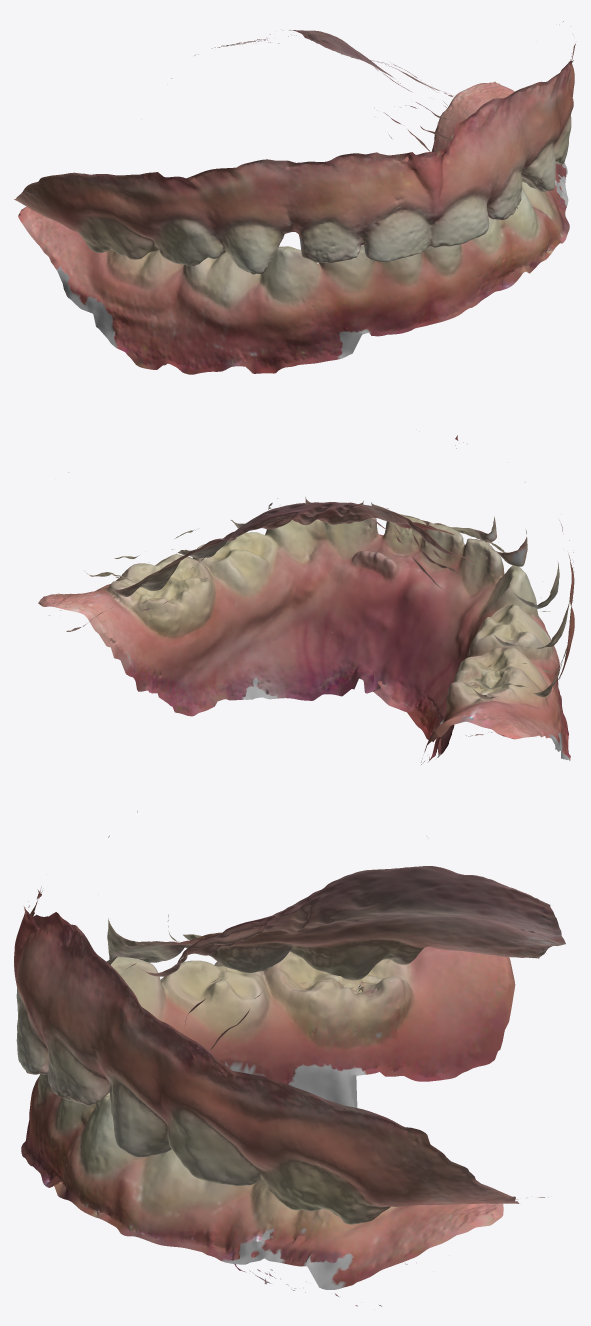
The model's file is teeth.glb.
3 renders of one model, top to bottom at view 1: azimuth 30°, elevation 25°; view 2: azimuth 150°, elevation 25°; view 3: azimuth 270°, elevation 25°, orthographic. The views are drawn at different scales.
Parts seen in each view (by area): view 1: part_part_49d2935465ed3936dc871622, part_part_05f9726cf3895bda9371ddd2; view 2: part_part_05f9726cf3895bda9371ddd2, part_part_49d2935465ed3936dc871622; view 3: part_part_49d2935465ed3936dc871622, part_part_05f9726cf3895bda9371ddd2.
Boxes of the visible parts, x1,y1,x2,y2 form: part_part_49d2935465ed3936dc871622: (14,21,575,274); part_part_05f9726cf3895bda9371ddd2: (18,81,569,374); part_part_05f9726cf3895bda9371ddd2: (38,514,570,764); part_part_49d2935465ed3936dc871622: (48,435,574,736); part_part_49d2935465ed3936dc871622: (14,811,565,1224); part_part_05f9726cf3895bda9371ddd2: (21,946,515,1306).
Bounding box in the file's own units: 0.0575 × 0.0259 × 0.0373.
